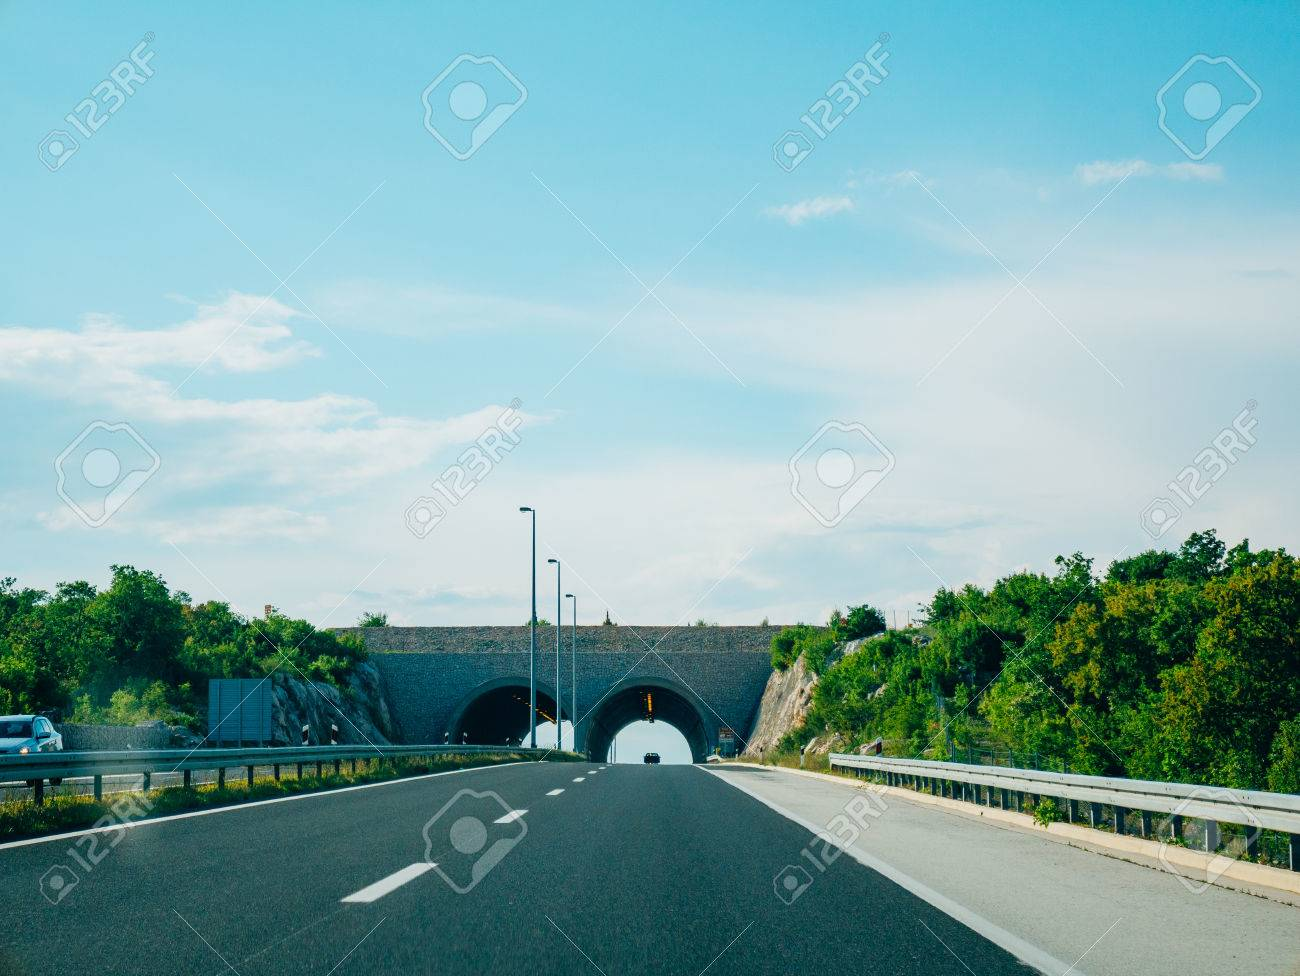bridge: (326, 627, 778, 761)
